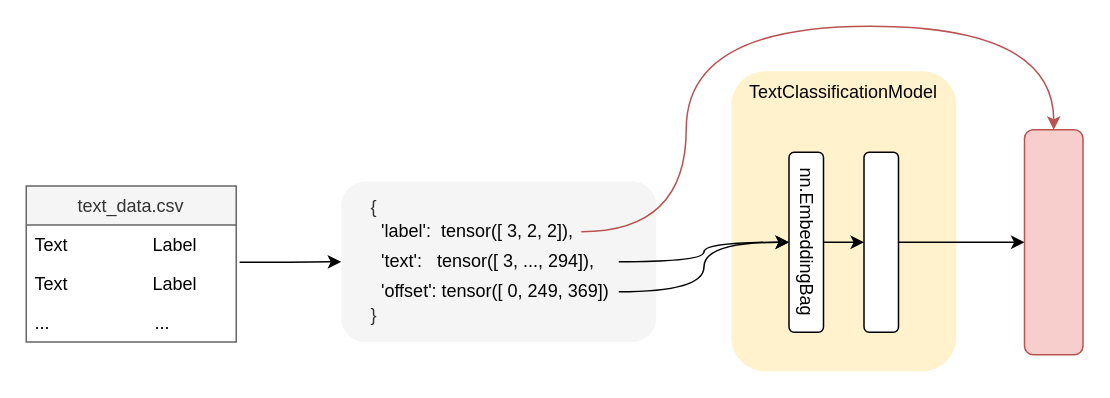
Image size: 1110x398. Some labels were removed from this diagram. Each missing label, with the centre of its shape:
"nn.CrossEntropyLoss" belongs at point 1053,241.
"nn.Linear" belongs at point 880,241.
